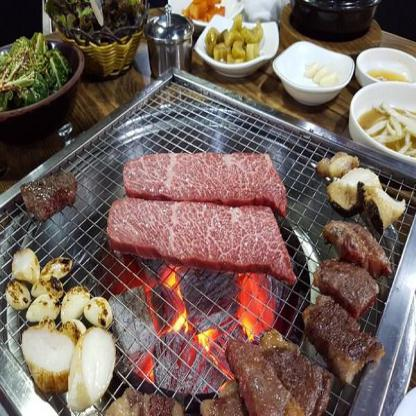beef: (116, 146, 288, 276)
